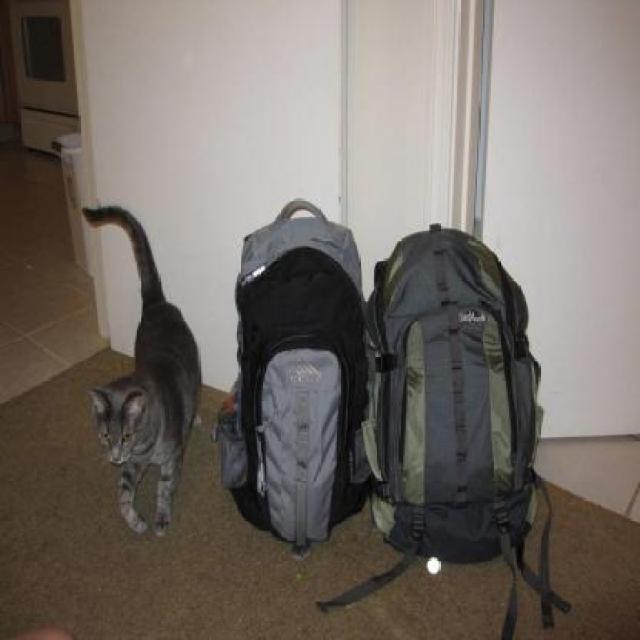backpack: (366, 217, 545, 568), (214, 197, 368, 557)
